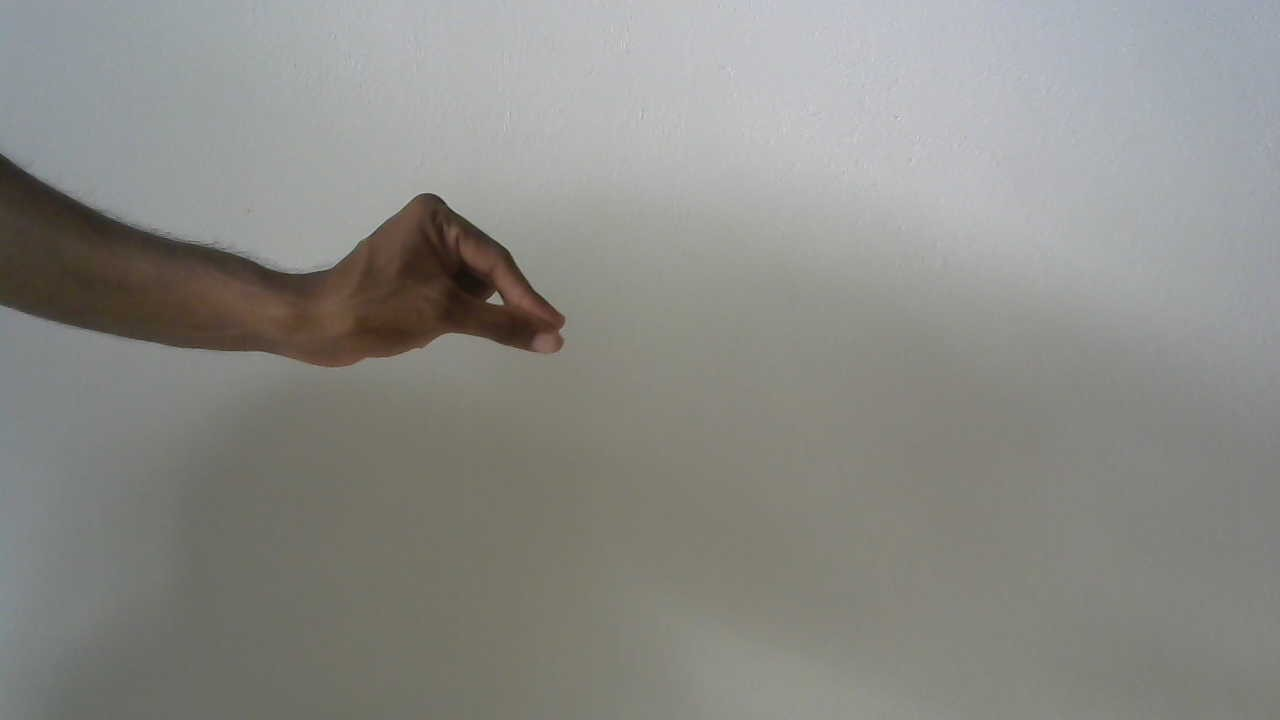no: (290, 181, 587, 389)
